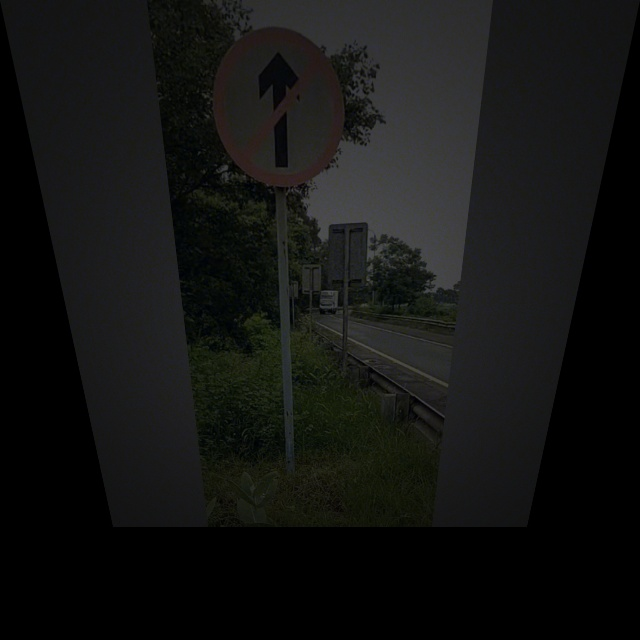No_Entry: (206, 29, 348, 185)
